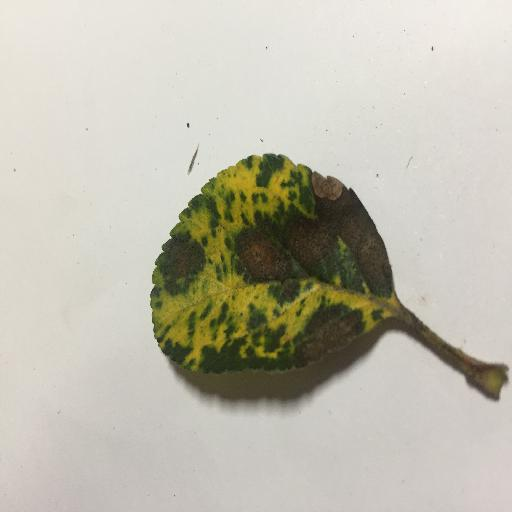Brown_Spot: (221, 149, 400, 367), (164, 233, 206, 288)
